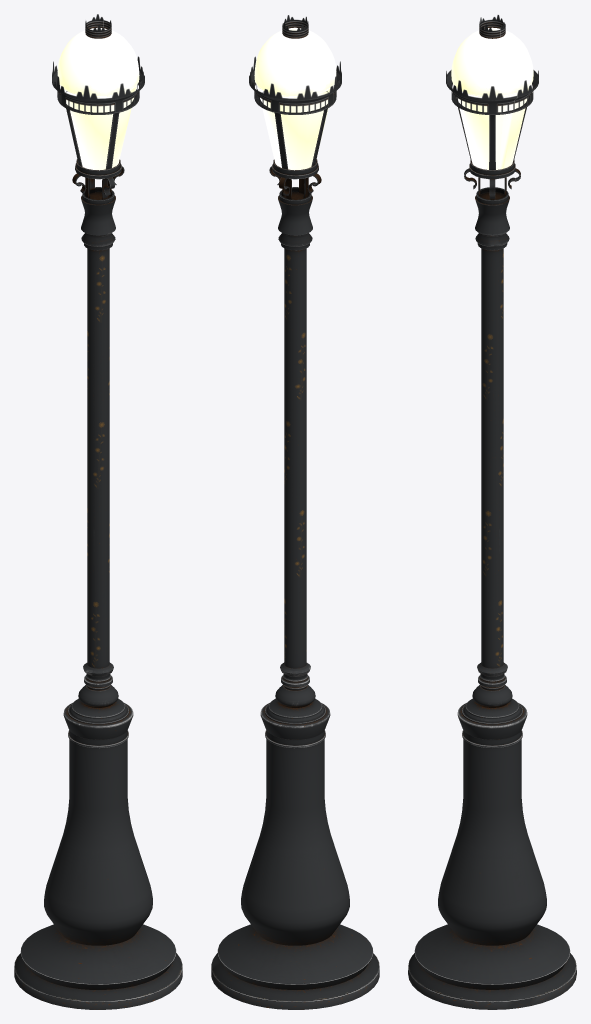
File: lanthern.glb
The picture shows the model from 3 angles, left to right: view 1: azimuth 30°, elevation 25°; view 2: azimuth 150°, elevation 25°; view 3: azimuth 270°, elevation 25°; orthographic projection.
Parts seen in each view (by area): view 1: Object_2, Object_3; view 2: Object_2, Object_3; view 3: Object_2, Object_3.
Part boxes in pixels (x1,y1,x2,y2): Object_2: [14, 27, 182, 1009]; Object_3: [52, 14, 144, 114]; Object_2: [211, 27, 379, 1009]; Object_3: [249, 15, 341, 114]; Object_2: [408, 27, 576, 1009]; Object_3: [446, 15, 538, 114].
Bounding box in the file's own units: 4.91 × 30.67 × 4.91.
Materials: 2 (2 with a texture image).
